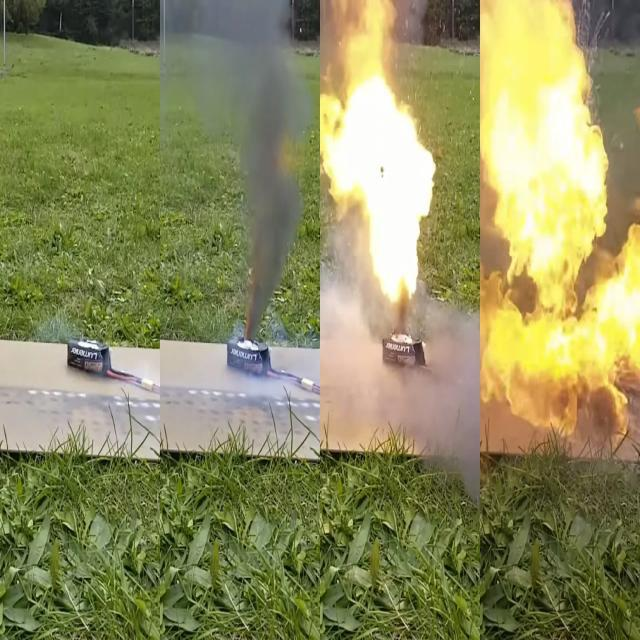fire: (478, 2, 639, 462), (337, 40, 455, 336)
